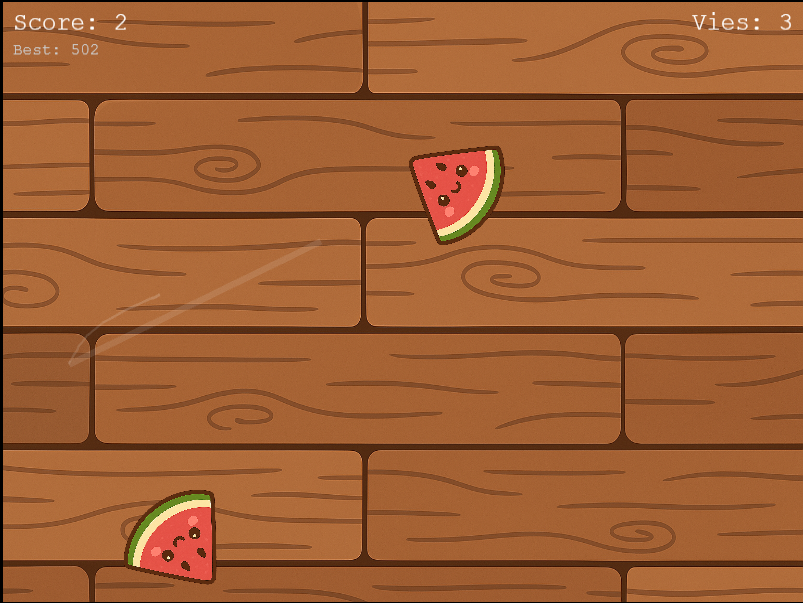fruit: (109, 470, 240, 597), (402, 135, 510, 251)
